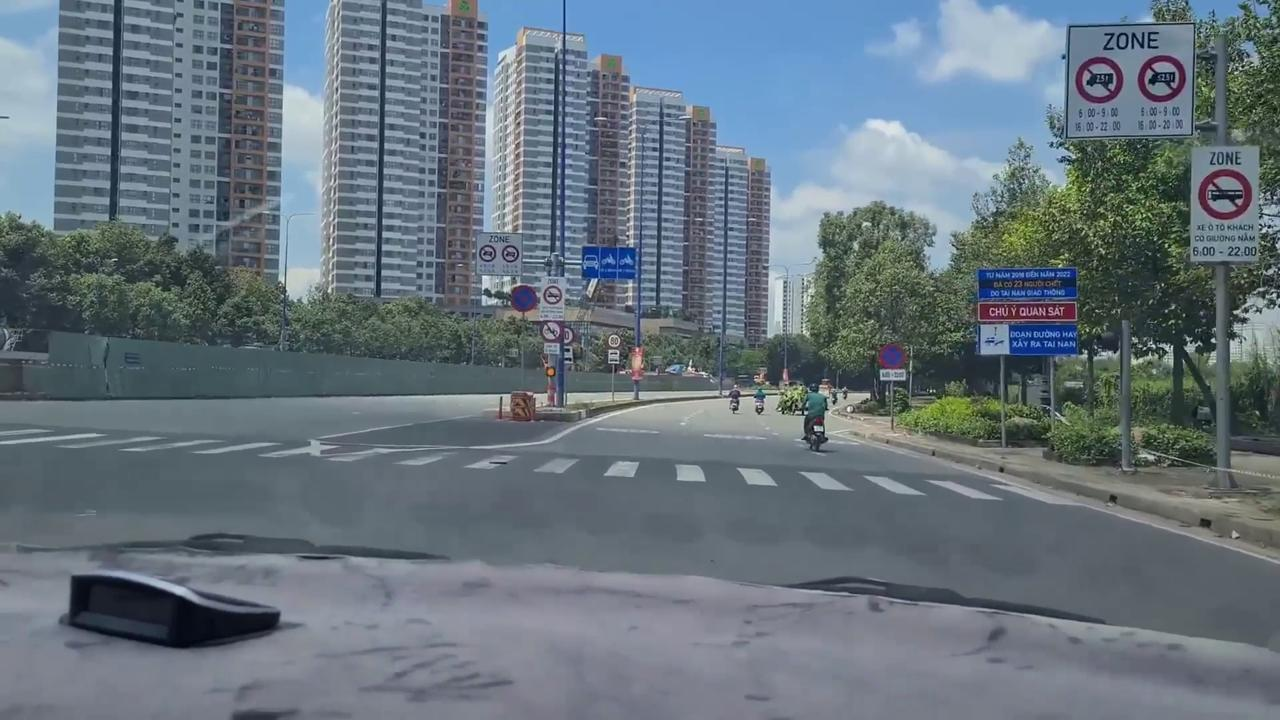Biển phụ: (879, 369, 908, 382), (608, 348, 620, 365)
Cấm cac phương tiện hoạt động trong khung giờ cố định: (1064, 22, 1196, 140), (1190, 145, 1262, 264), (477, 231, 524, 277), (539, 275, 565, 321)
Cấm dừng - Cấm đỗ: (878, 342, 908, 370), (510, 284, 538, 312)
Cấm xe máy: (540, 321, 562, 343)
Giới hạn tốc độ 80Km/h: (607, 333, 622, 348)
Khác: (974, 266, 1082, 356)
Làn đường cho từng xe: (581, 244, 636, 280)
